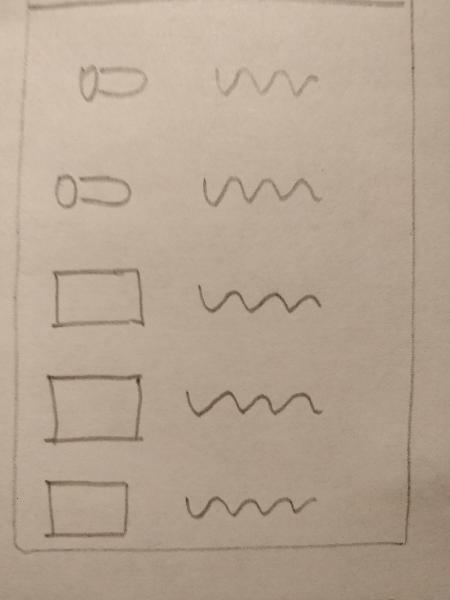switch: (67, 56, 152, 107), (49, 164, 134, 215)
text: (178, 380, 327, 426), (174, 479, 323, 525), (193, 273, 323, 320), (197, 167, 323, 212), (205, 62, 321, 101)
text_input: (38, 369, 149, 446), (43, 265, 156, 335), (36, 475, 132, 544)
